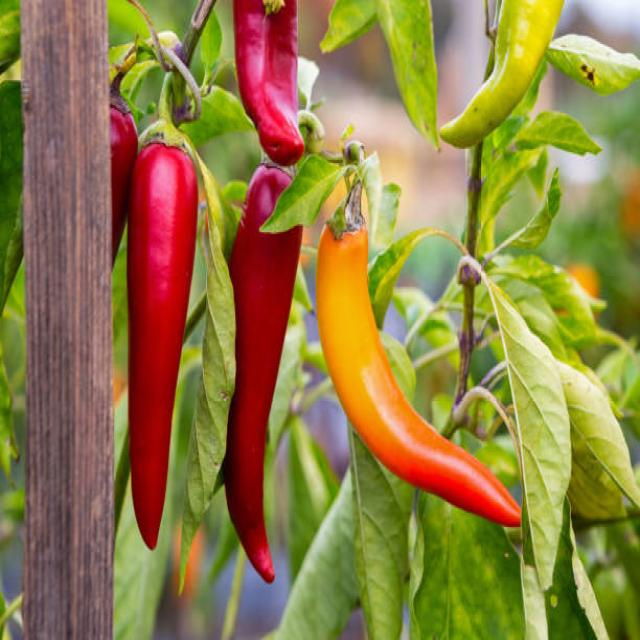Ripe: (317, 226, 519, 524), (224, 166, 301, 579), (129, 143, 197, 547), (234, 0, 303, 165)
Unripe: (434, 2, 570, 154)
